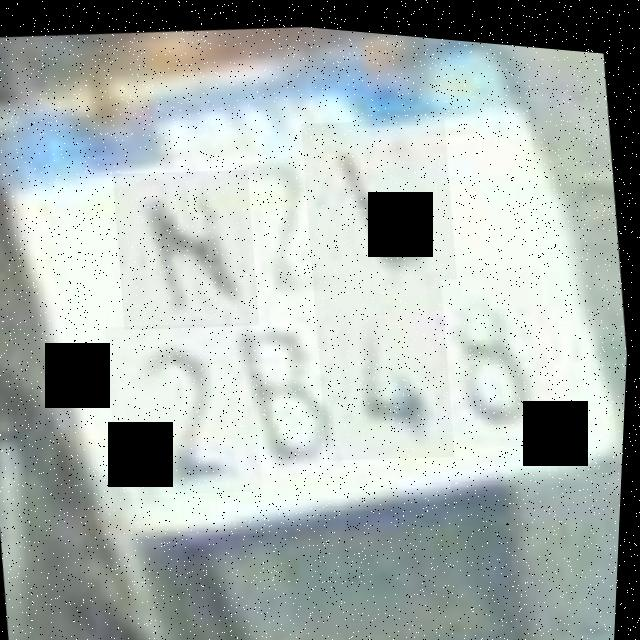2: (102, 307, 272, 503)
4: (310, 262, 464, 463)
8: (210, 280, 362, 480), (421, 249, 563, 448)
N: (296, 100, 465, 288), (108, 155, 267, 336)
